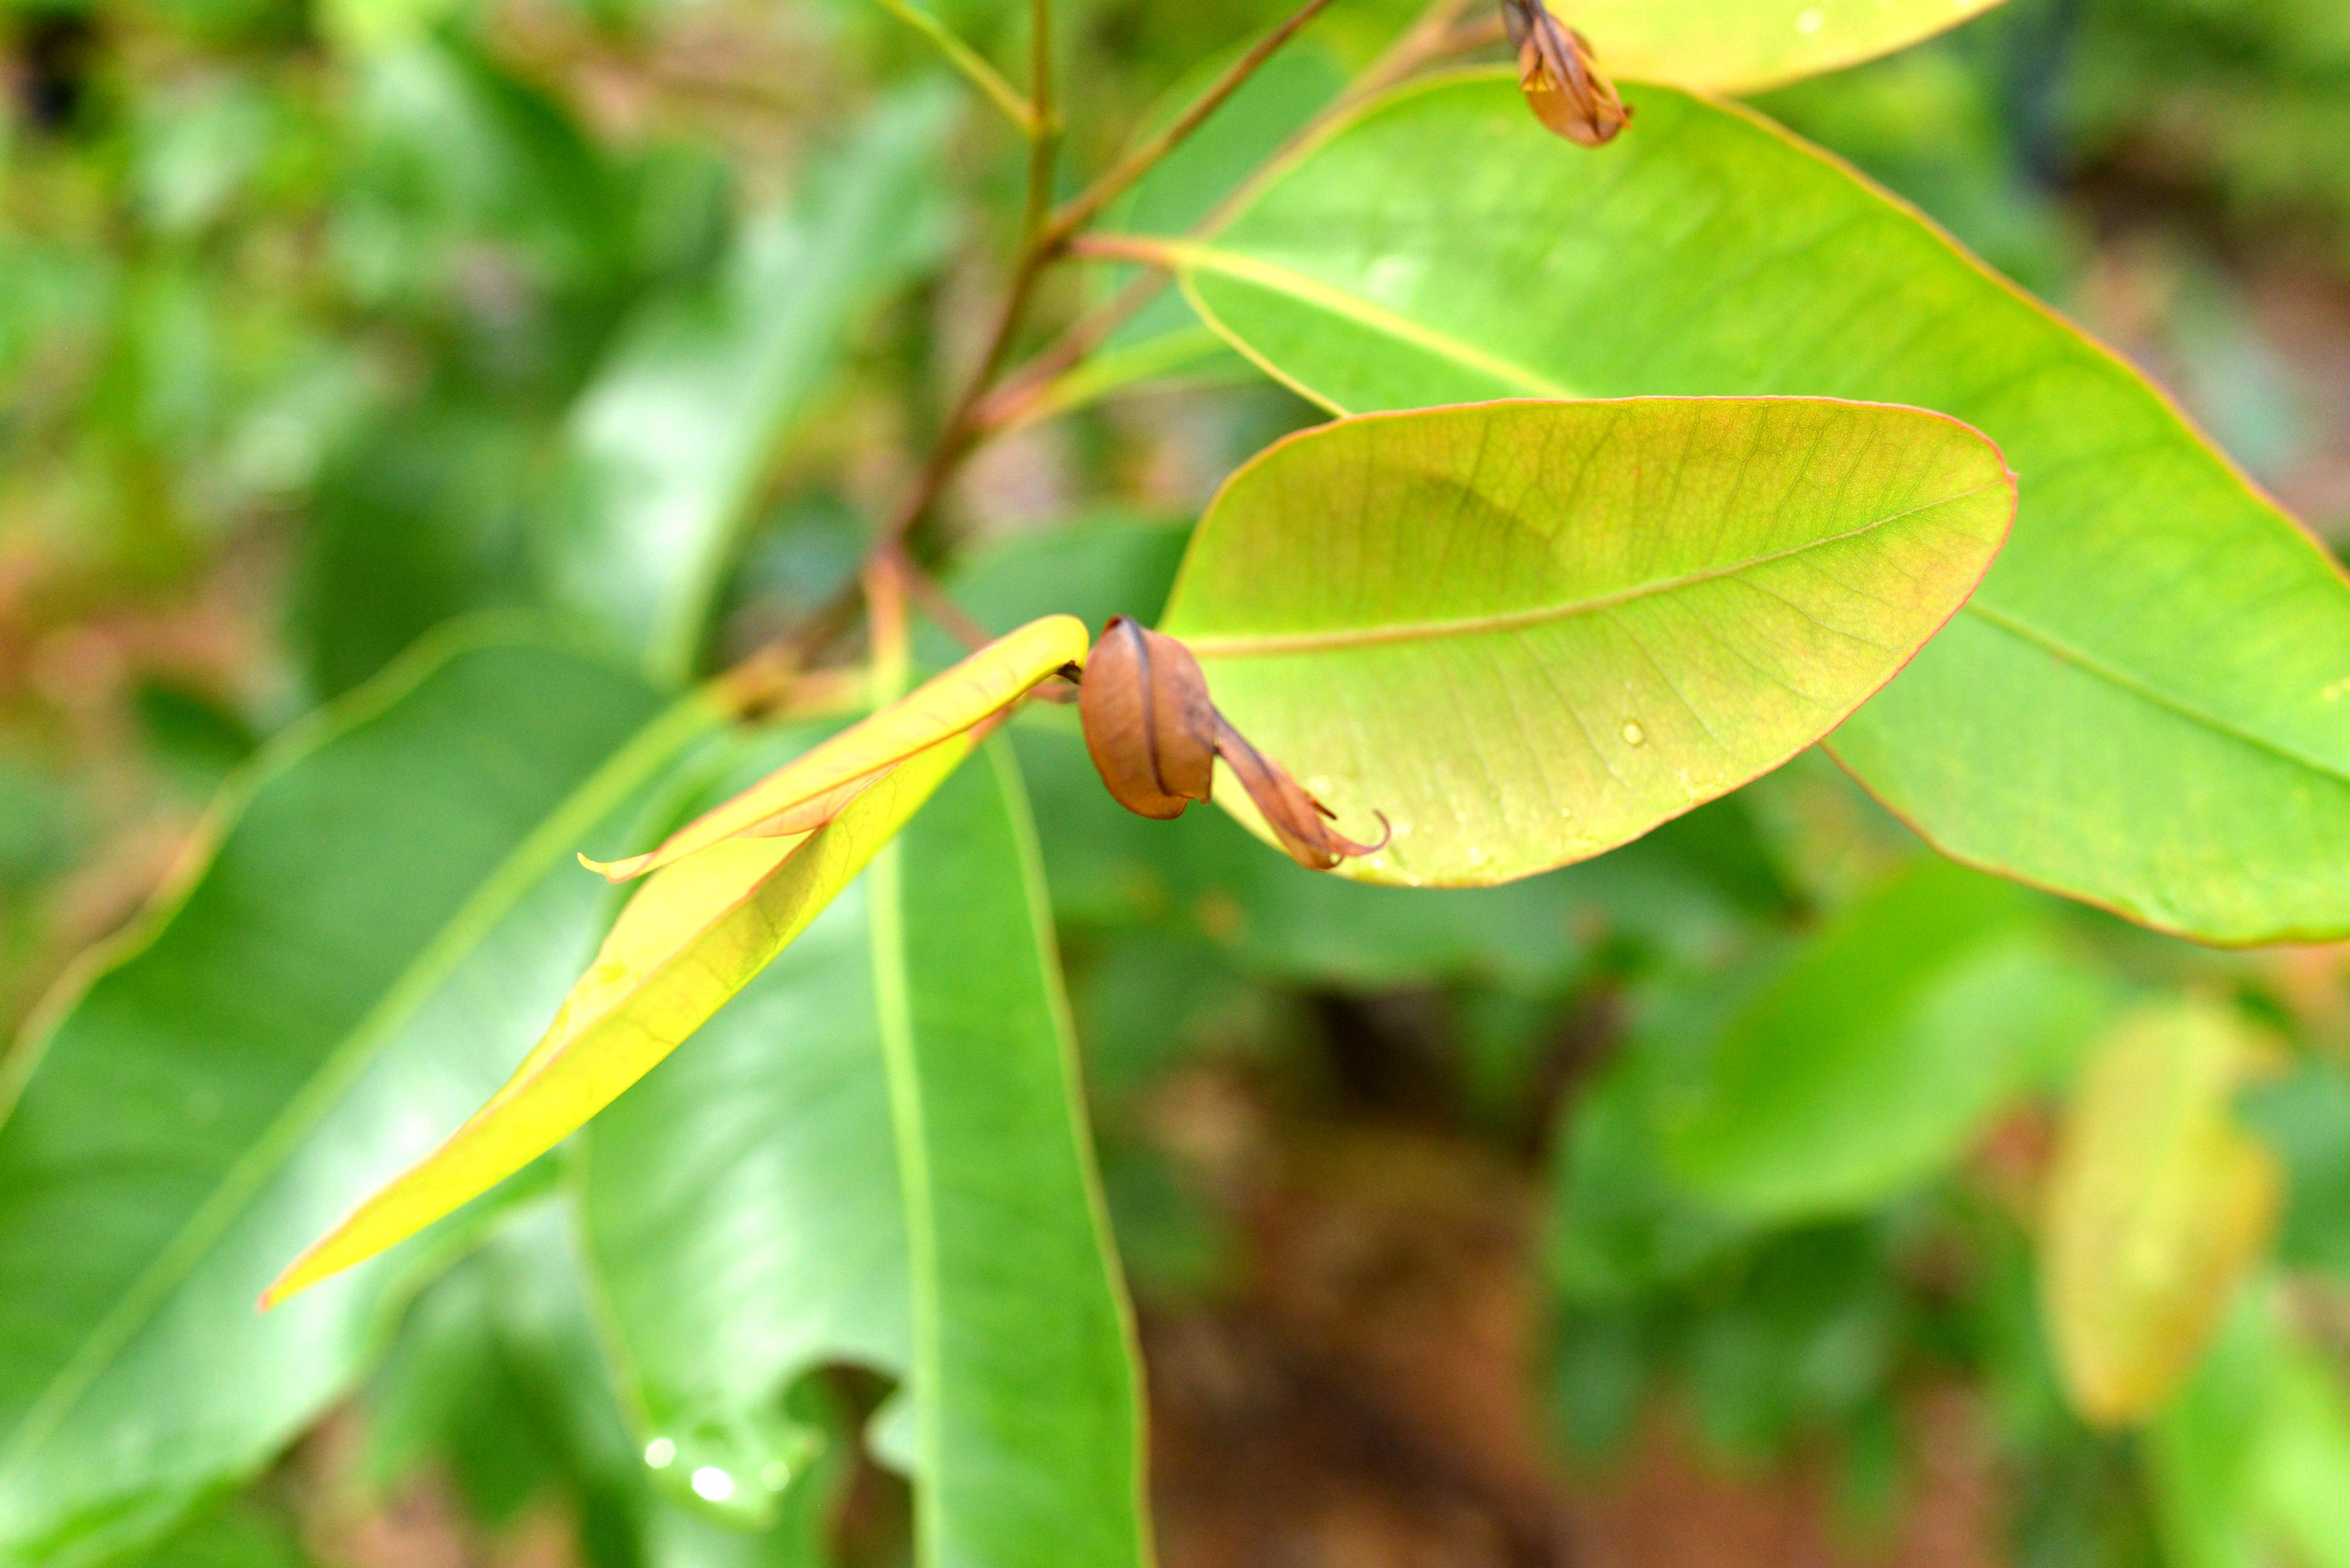Helopeltis-Withered Sprout: (1073, 597, 1216, 828), (1211, 714, 1393, 878), (1501, 0, 1634, 177)
